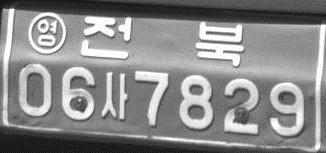0: (16, 61, 52, 117)
2: (222, 77, 259, 135)
6: (61, 66, 95, 122)
7: (133, 70, 169, 126)
8: (178, 74, 215, 130)
9: (268, 81, 305, 137)
사: (101, 71, 128, 122)
영: (27, 11, 66, 55)
전북_D: (79, 15, 245, 65)
